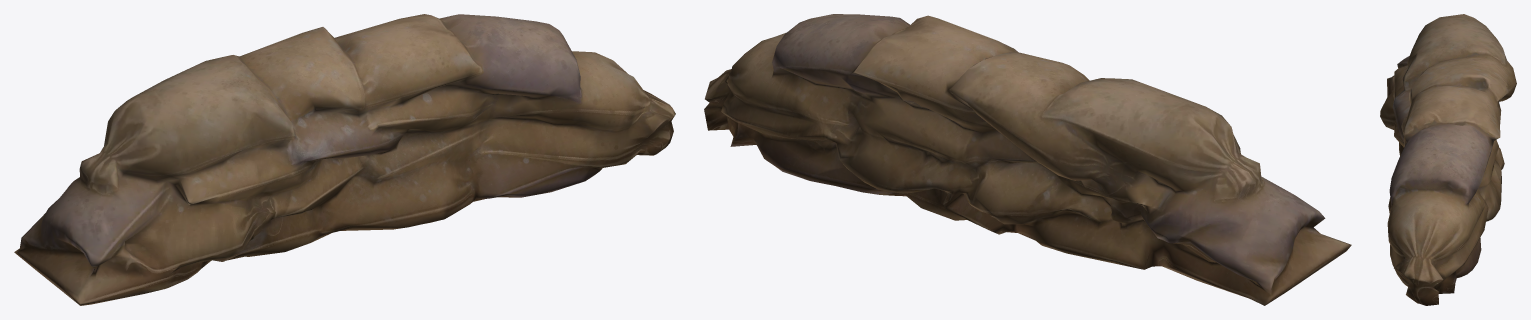
3 views of the same model, side by side, from view 1: azimuth 30°, elevation 25°; view 2: azimuth 150°, elevation 25°; view 3: azimuth 270°, elevation 25° (orthographic). The views are drawn at different scales.
Parts seen in each view (by area): view 1: sandbags01_sandbags01_0; view 2: sandbags01_sandbags01_0; view 3: sandbags01_sandbags01_0.
Boxes of the visible parts, x1=… form: sandbags01_sandbags01_0: x1=14, y1=14, x2=675, y2=305; sandbags01_sandbags01_0: x1=704, y1=14, x2=1351, y2=305; sandbags01_sandbags01_0: x1=1380, y1=14, x2=1516, y2=305.
Bounding box in the file's own units: 2.56 × 0.6603 × 0.6658.
1 material, 1 textured.
